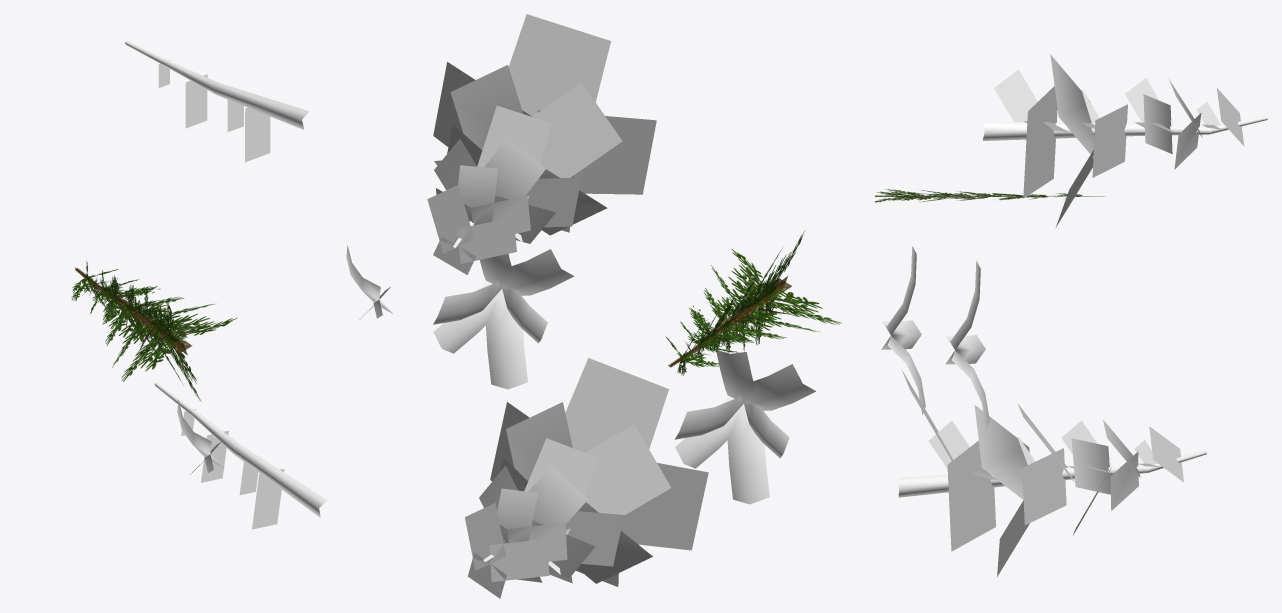
File: mountainTrees.glb
3 renders of one model, left to right at view 1: azimuth 30°, elevation 25°; view 2: azimuth 150°, elevation 25°; view 3: azimuth 270°, elevation 25°, orthographic. The views are drawn at different scales.
Parts seen in each view (by area): view 1: tree_1Low.png__, wooden2.png__, wooden.png__, vegetation_1.png__; view 2: tree_1.png__, vegetation_1.png__, tree_1Low.png__; view 3: tree_1.png__, wooden2.png__, vegetation_1.png__, wooden.png__, tree_1Low.png__.
Boxes of the visible parts, box(x1,y1,x2,y2) form: tree_1Low.png__: box(71, 261, 237, 401); wooden2.png__: box(158, 60, 284, 529); wooden.png__: box(125, 40, 327, 517); vegetation_1.png__: box(177, 245, 392, 474); tree_1.png__: box(427, 14, 708, 598); vegetation_1.png__: box(433, 249, 815, 504); tree_1Low.png__: box(666, 231, 841, 375); tree_1.png__: box(901, 54, 1244, 576); wooden2.png__: box(928, 69, 1221, 479); vegetation_1.png__: box(881, 246, 989, 430); wooden.png__: box(898, 116, 1267, 497); tree_1Low.png__: box(875, 189, 1104, 202).
Bounding box in the file's own units: 21.39 × 34.1 × 21.14.
5 materials, 1 textured.
